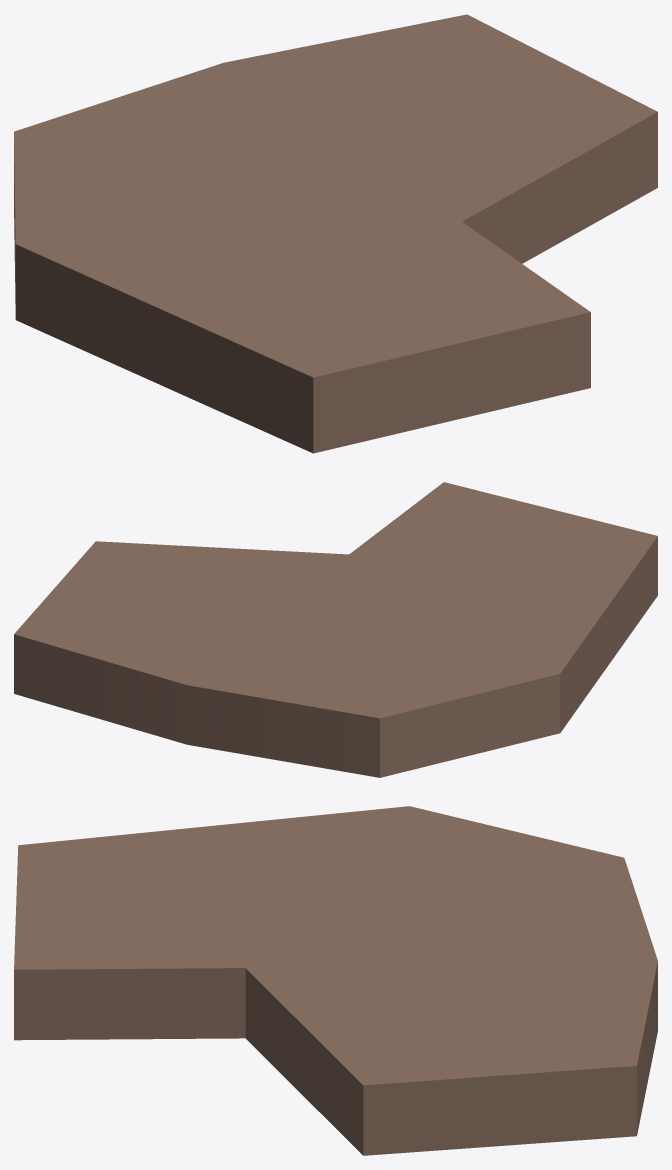
File: SM_island01.fbx
3 views of the same model, one above another, from view 1: azimuth 30°, elevation 25°; view 2: azimuth 150°, elevation 25°; view 3: azimuth 270°, elevation 25° (orthographic). The views are drawn at different scales.
Visible parts, largest first — view 1: polySurface1; view 2: polySurface1; view 3: polySurface1.
Boxes of the visible parts, x1,y1,x2,y2 form: polySurface1: (14,14,657,453); polySurface1: (14,482,657,777); polySurface1: (14,806,657,1155).
Bounding box in the file's own units: 821 × 96.52 × 800.
